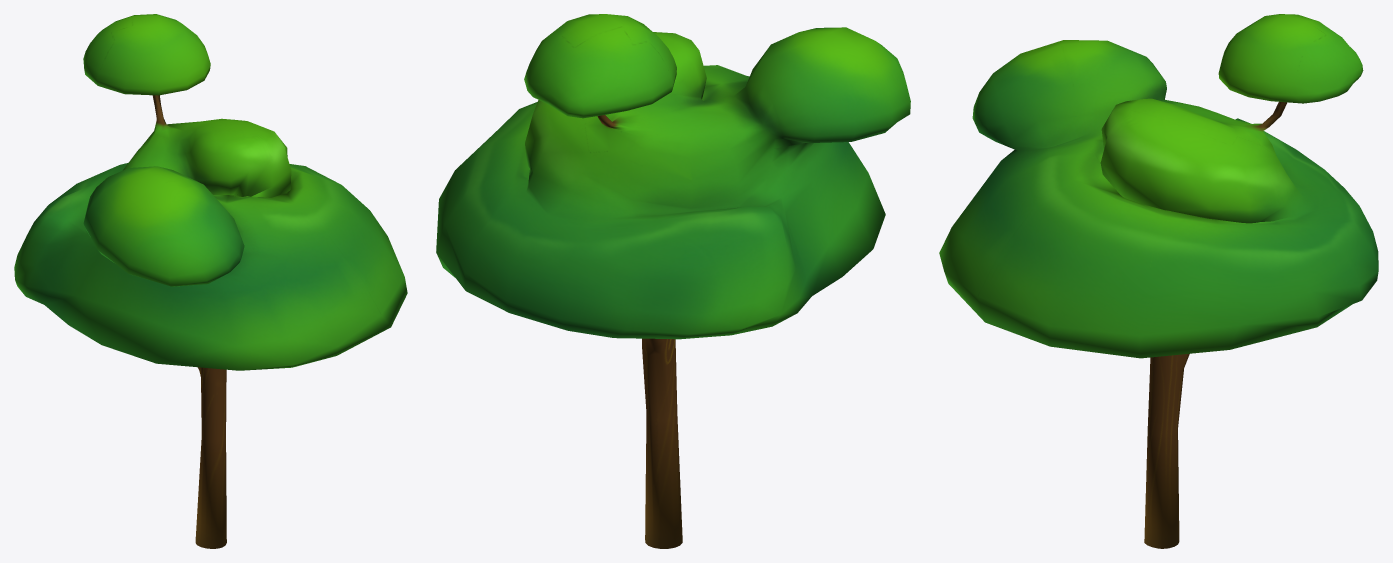
The model's file is MushroomTree.fbx.
The picture shows the model from 3 angles, left to right: view 1: azimuth 30°, elevation 25°; view 2: azimuth 150°, elevation 25°; view 3: azimuth 270°, elevation 25°; orthographic projection. The views are drawn at different scales.
Parts seen in each view (by area): view 1: MushroomBush; view 2: MushroomBush; view 3: MushroomBush.
Part boxes in pixels (left/top/right/bottom): MushroomBush: left=14, top=14, right=407, bottom=548; MushroomBush: left=436, top=14, right=910, bottom=548; MushroomBush: left=939, top=14, right=1378, bottom=548.
Bounding box in the file's own units: 170 × 242 × 187.
Materials: 1 (1 with a texture image).
